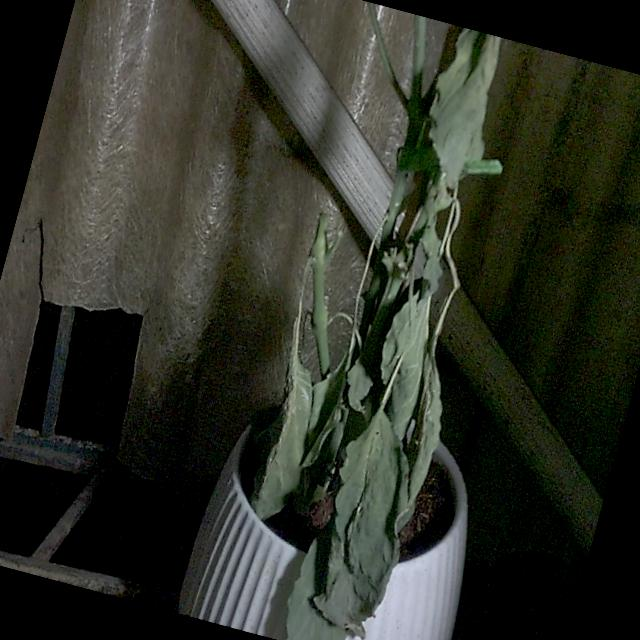Leaf: (298, 401, 431, 640), (242, 354, 330, 524)
